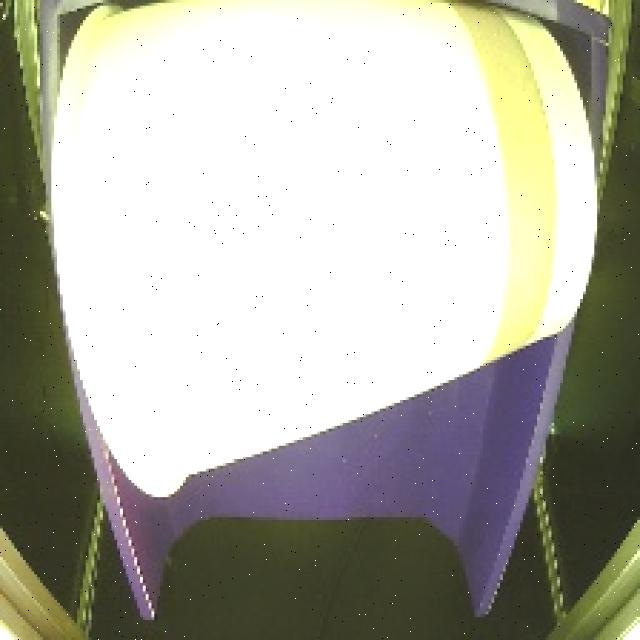cups: (40, 0, 612, 512)
